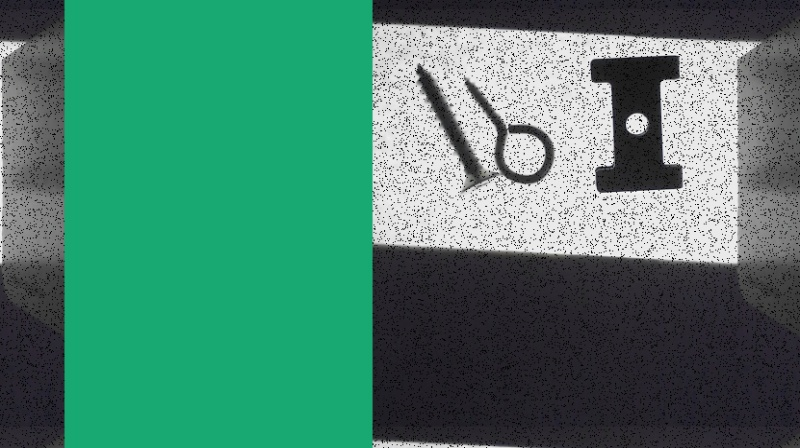O001: (460, 73, 554, 185)
O002: (589, 52, 684, 194)
S001: (412, 58, 501, 195)
